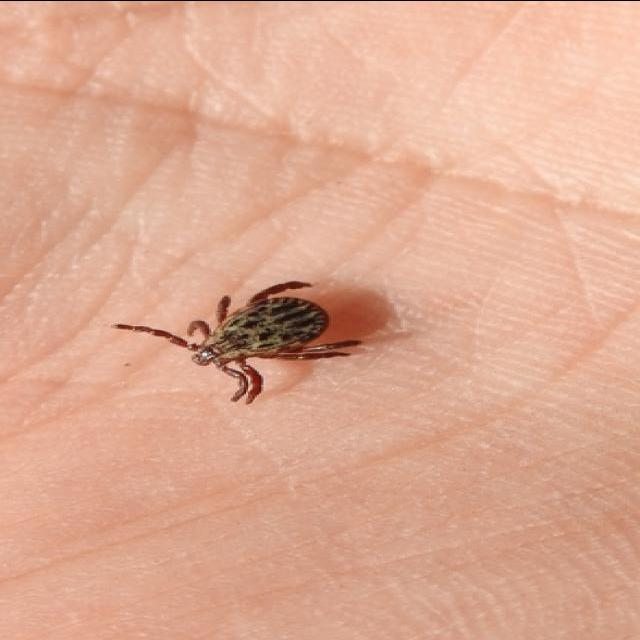Dermacentor Reticulatus-M: (115, 280, 364, 403)
